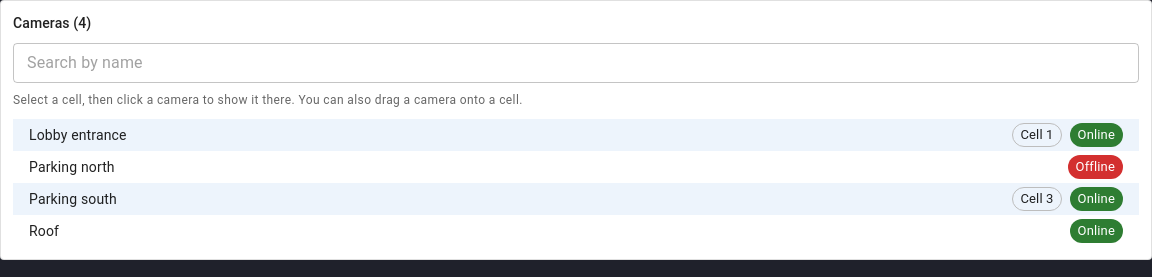
Scenario: GenetecCameraList › says so when nothing matches
The image size is (1152, 277).
Step 1. Type "zzz" into the field labelled "Search by name" → (576, 63), box x1=13 y1=43 x2=1139 y2=83
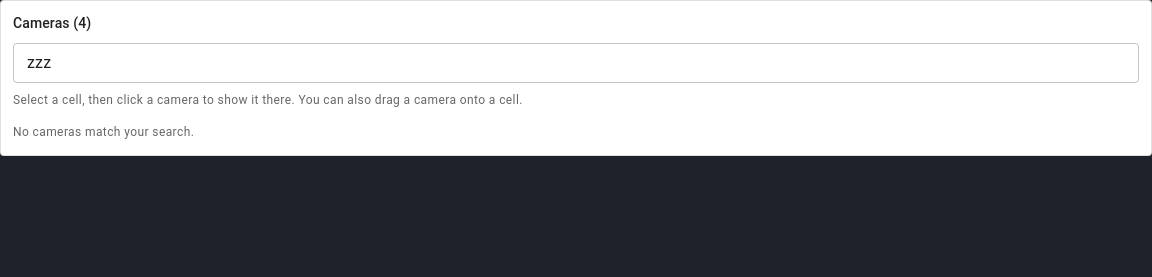
Now the text "No cameras match your search." is shown, box x1=13 y1=125 x2=194 y2=139
